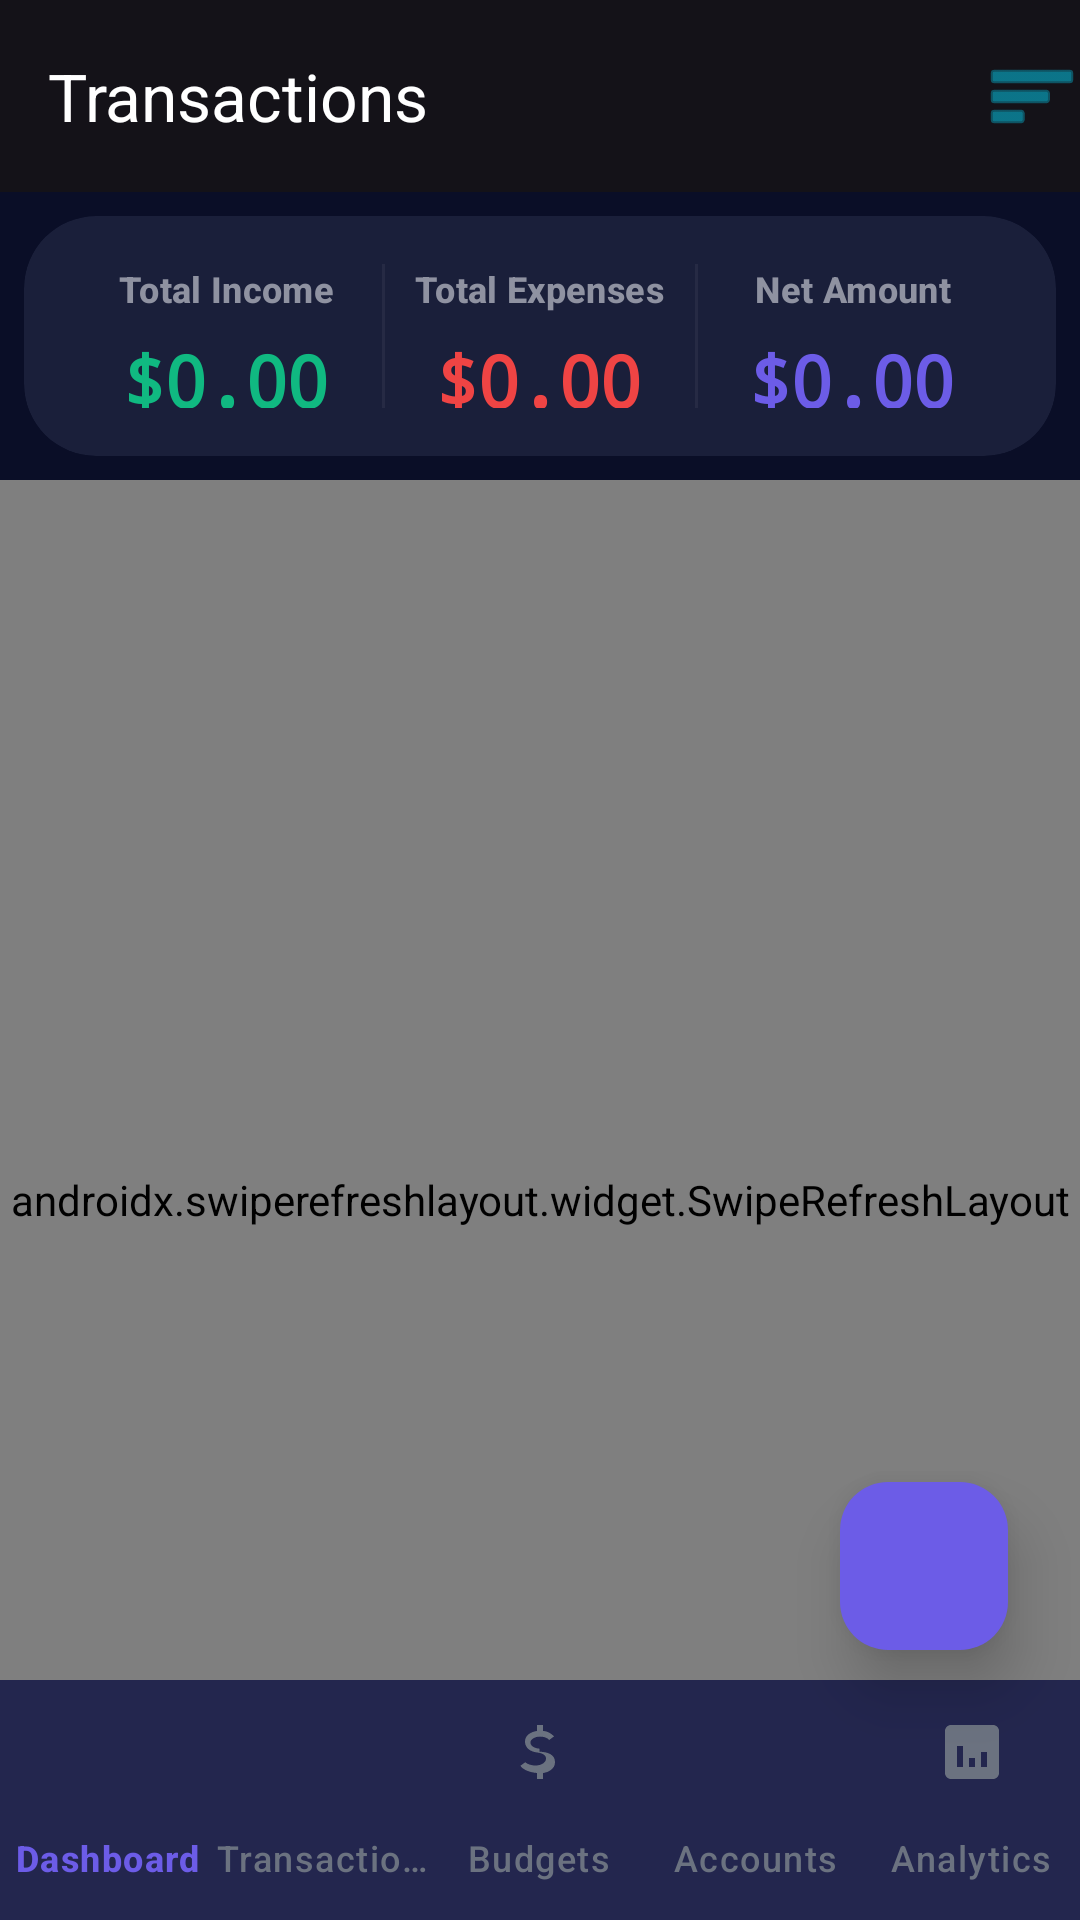

Where to tap for icons on this 1080 x 1920 app screen, as (x,y):
Filter: (1032,96)
